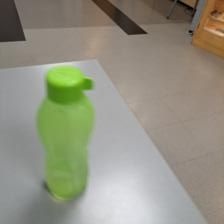bottle: (35, 66, 95, 200)
